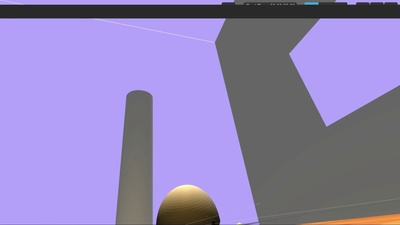mira_robot: (156, 184, 221, 225)
